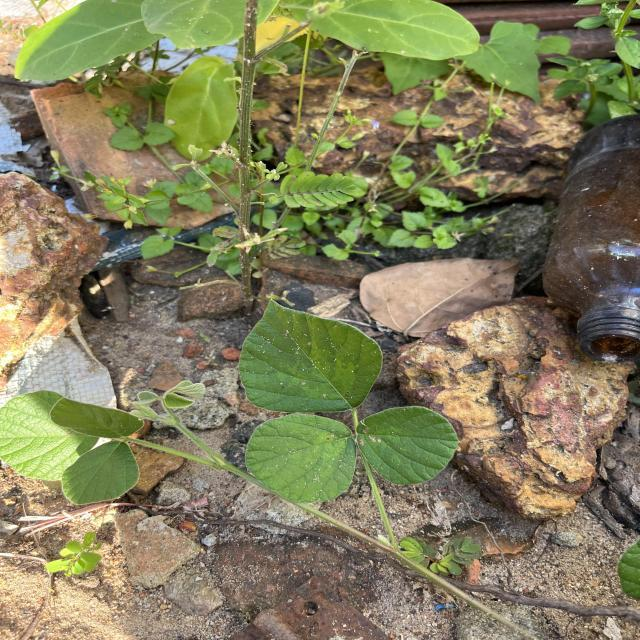Pseudarthria viscida: (235, 296, 464, 507)
